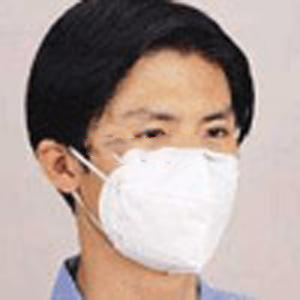face_mask: (96, 75, 238, 272)
